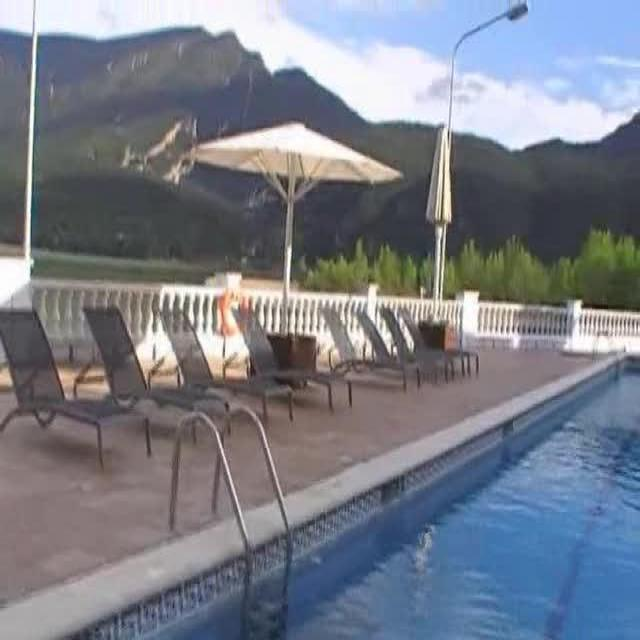other: (145, 268, 588, 354)
